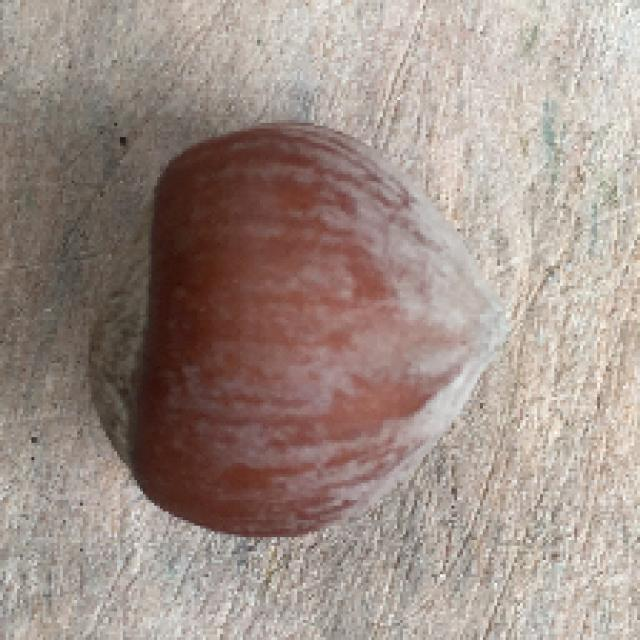qualityHazelnut: (64, 117, 508, 545)
